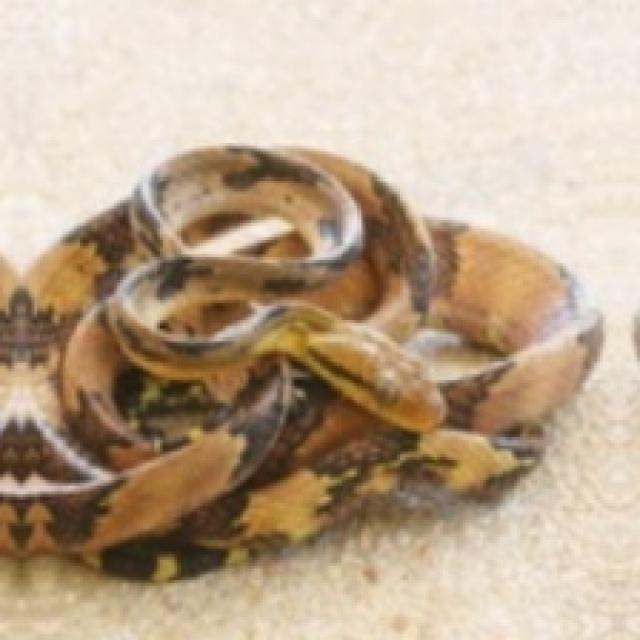dog-toothed cat snake: (0, 146, 600, 577)
